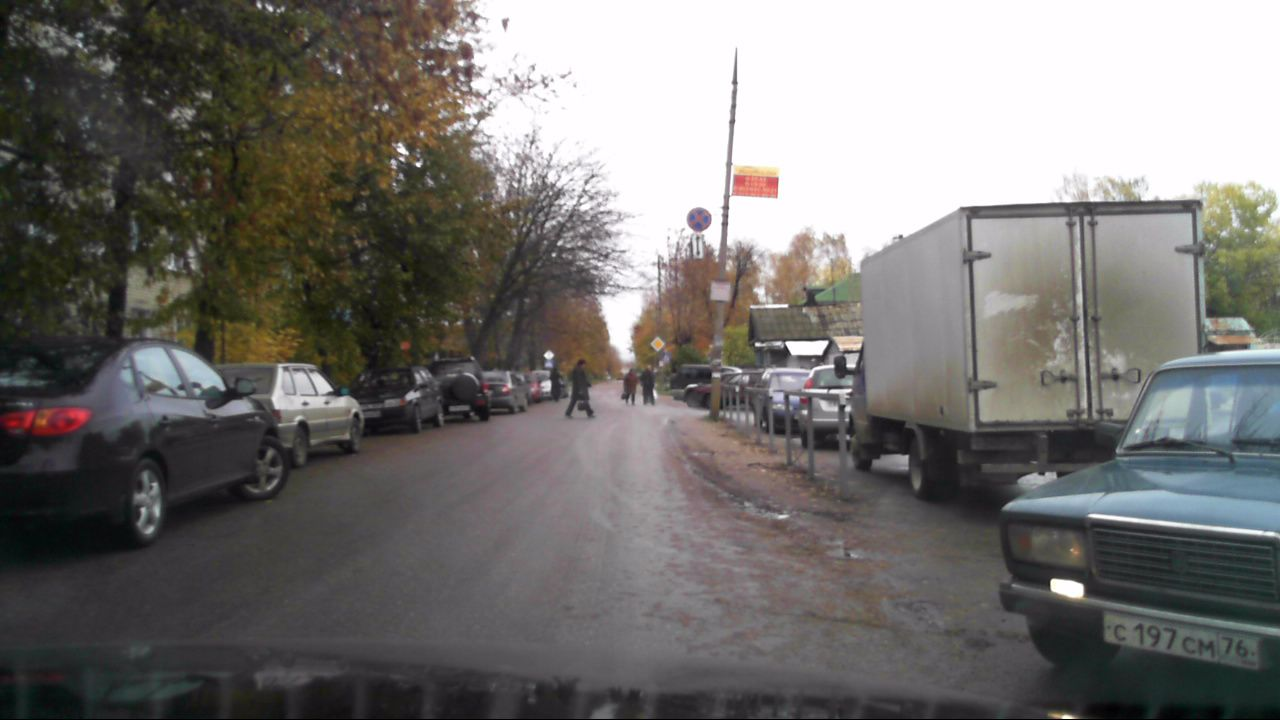No Parking: (687, 207, 711, 231)
